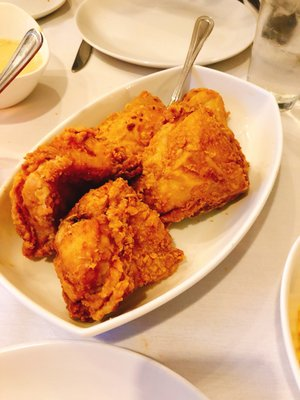salad: (168, 15, 215, 108), (71, 39, 93, 73)
sushi: (0, 1, 50, 109), (277, 232, 300, 398)
